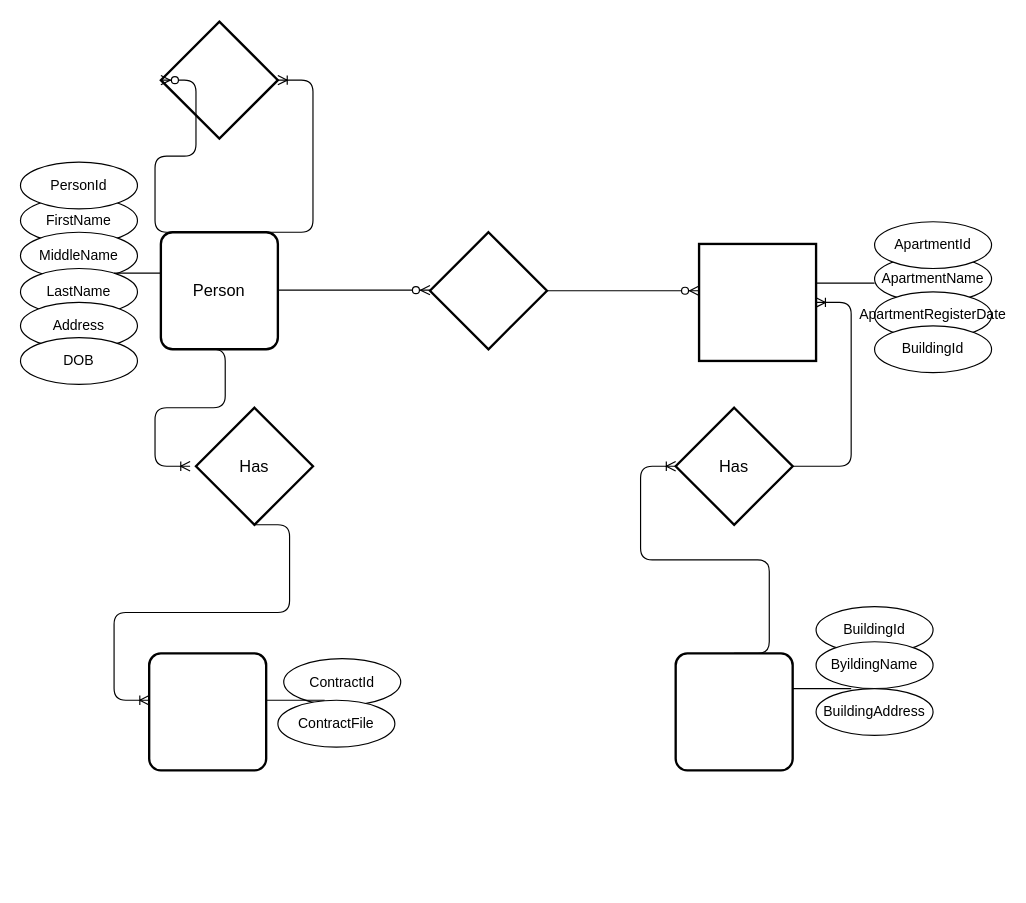
This 1026x903 diagram has some shape labels left out. Each missing label, with the centre of its shape:
Apartments: the point at 757,302
Building: the point at 733,711
Contract: the point at 207,711
Owns: the point at 488,290
Rents: the point at 218,79
